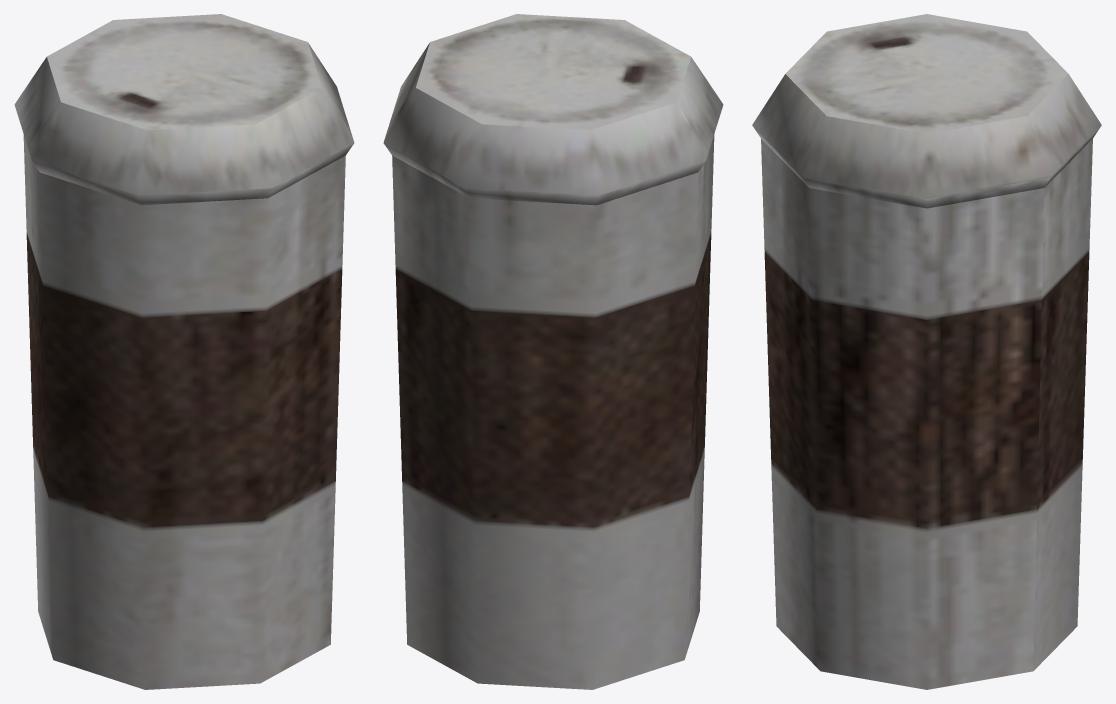
Rendered from coffe_mug_paper.dae.
The picture shows the model from 3 angles, left to right: view 1: azimuth 30°, elevation 25°; view 2: azimuth 150°, elevation 25°; view 3: azimuth 270°, elevation 25°; orthographic projection.
Visible parts, largest first — view 1: pCylinder1; view 2: pCylinder1; view 3: pCylinder1.
Part boxes in pixels (x1=…): pCylinder1: x1=14, y1=14, x2=354, y2=689; pCylinder1: x1=383, y1=14, x2=723, y2=689; pCylinder1: x1=752, y1=14, x2=1101, y2=689.
Size of the model in its own units: 15.14 by 26.38 by 15.14.
